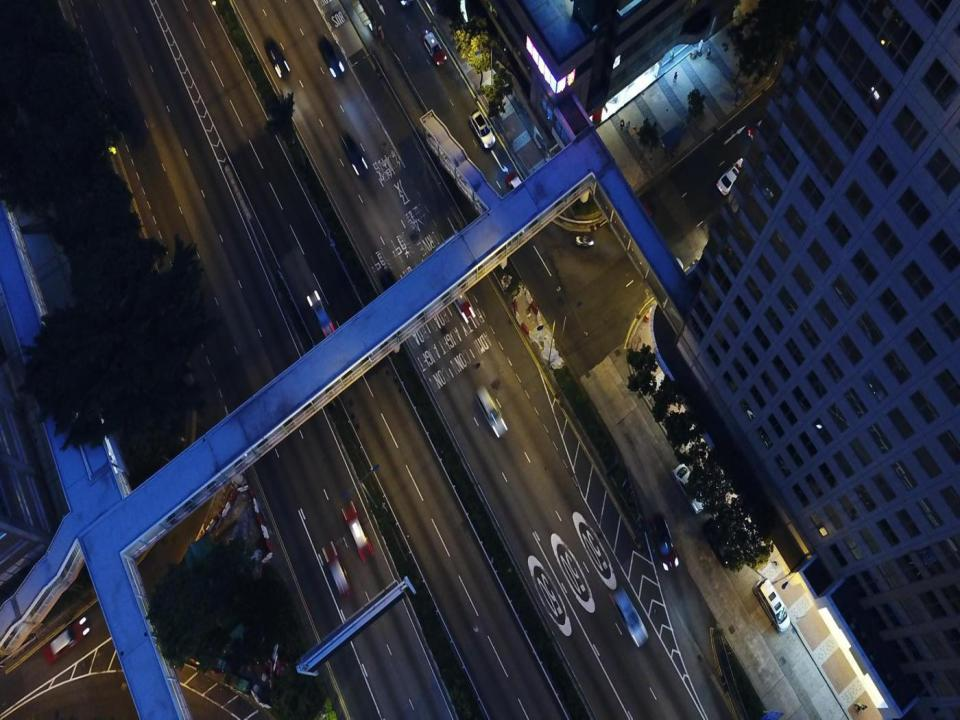car: (611, 587, 648, 646), (44, 616, 90, 662), (341, 501, 374, 562), (322, 541, 353, 601), (652, 512, 680, 570), (307, 288, 337, 342), (340, 130, 370, 177), (718, 159, 756, 196), (317, 36, 346, 76), (508, 172, 536, 210), (452, 280, 477, 322), (266, 41, 291, 80), (423, 26, 447, 66), (470, 111, 495, 148)
van: (754, 578, 791, 633), (676, 465, 708, 513), (479, 388, 508, 439)
